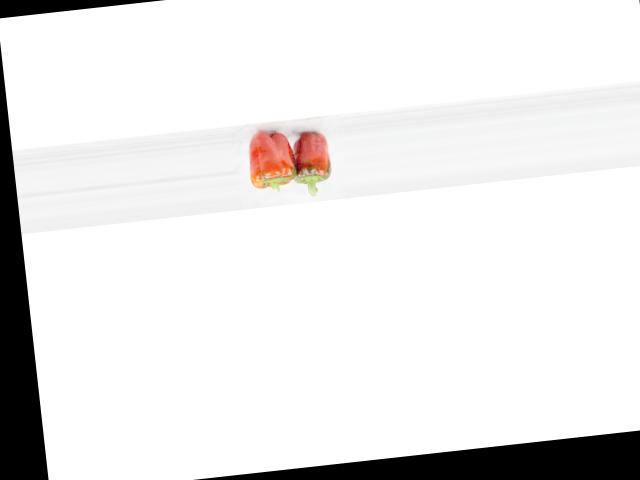bell_pepper: (238, 127, 296, 198)
